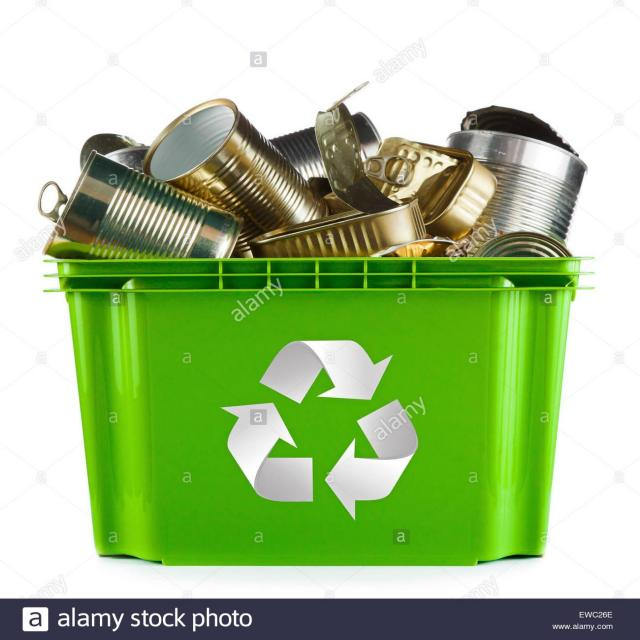metel: (135, 97, 330, 236), (33, 146, 246, 263), (447, 101, 591, 257), (364, 135, 503, 237)
